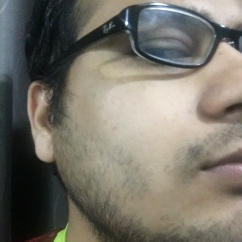glasses: (73, 18, 241, 66)
